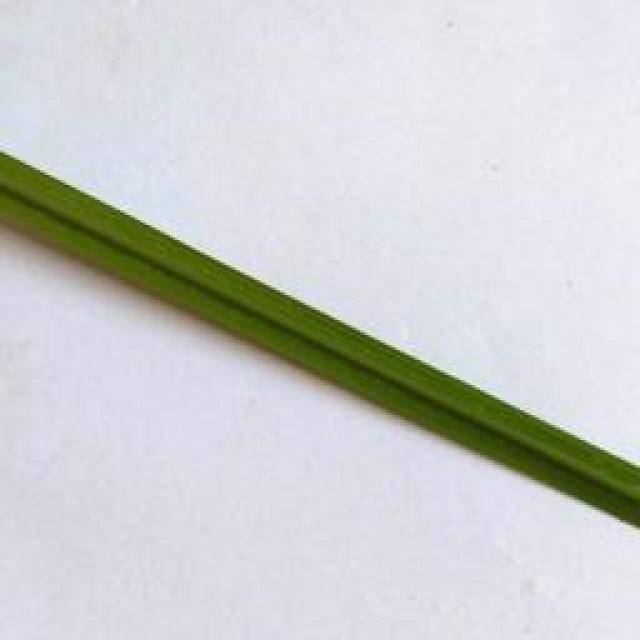Healthy-Plant: (0, 146, 640, 525)
